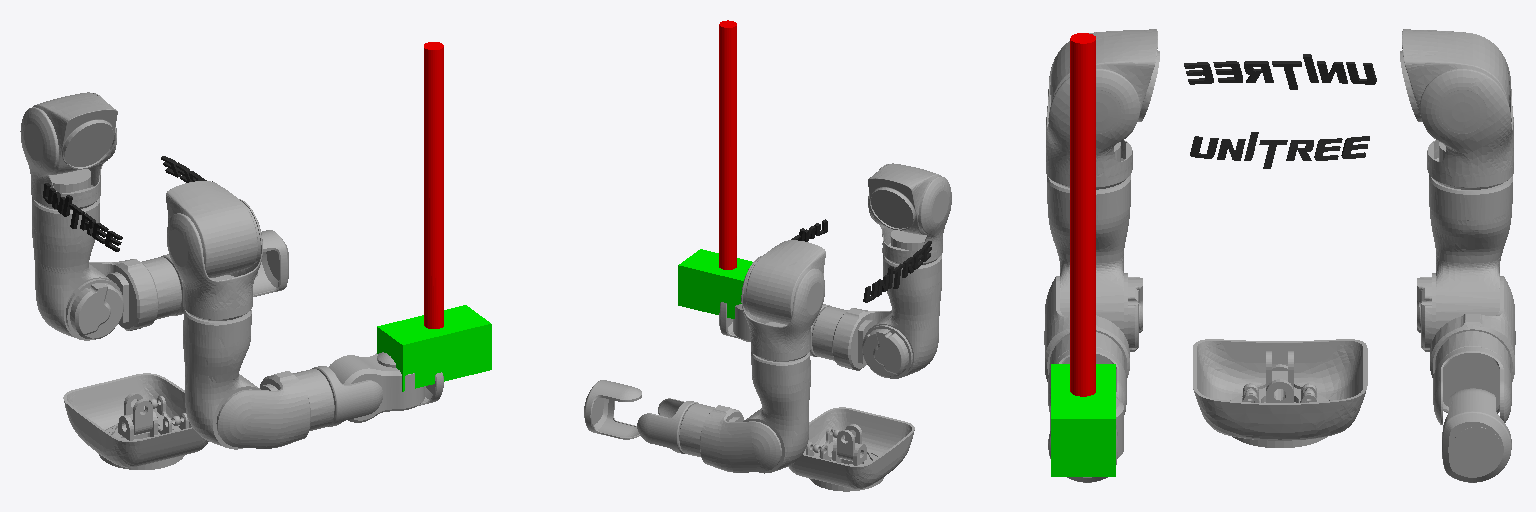
--- What the picture shows (computed from the rendered views, not written in the file) ---
3 views of the same robot in one strip: view 1: azimuth 30°, elevation 25°; view 2: azimuth 150°, elevation 25°; view 3: azimuth 270°, elevation 25° (orthographic).
Robot: g1_29dof — 28 links, 27 joints (8 revolute, 19 fixed); root link pelvis; default pose: joints at zero except 1 at the middle of their limits (pole_joint = 3.14).
Visible links, largest first — view 1: left_shoulder_yaw_link, waist_support_link, right_elbow_link, cart, right_shoulder_yaw_link, pole, right_shoulder_pitch_link, right_shoulder_roll_link, left_shoulder_pitch_link, left_elbow_link, left_shoulder_roll_link, right_wrist_pitch_link (+6 smaller); view 2: right_shoulder_yaw_link, waist_support_link, left_elbow_link, left_shoulder_yaw_link, pole, left_shoulder_pitch_link, left_shoulder_roll_link, cart, right_shoulder_pitch_link, right_shoulder_roll_link, right_elbow_link, left_wrist_yaw_link (+4 smaller); view 3: waist_support_link, left_shoulder_yaw_link, left_shoulder_roll_link, pole, right_shoulder_yaw_link, right_shoulder_roll_link, cart, logo_link, left_wrist_yaw_link, left_shoulder_pitch_link, right_shoulder_pitch_link, left_wrist_roll_link (+5 smaller).
Link boxes in pixels (x1,y1,x2,y2): left_shoulder_yaw_link: (32,197,123,340); waist_support_link: (63,373,208,467); right_elbow_link: (216,369,334,448); cart: (377,305,491,391); right_shoulder_yaw_link: (183,309,260,449); pole: (424,42,443,328); right_shoulder_pitch_link: (166,181,257,277); right_shoulder_roll_link: (167,199,262,320); left_shoulder_pitch_link: (33,92,117,174); left_elbow_link: (89,257,181,330); left_shoulder_roll_link: (20,93,116,209); right_wrist_pitch_link: (329,353,424,422); right_shoulder_yaw_link: (862,255,941,378); waist_support_link: (788,407,914,488); left_elbow_link: (679,403,781,472); left_shoulder_yaw_link: (743,352,810,473); pole: (719,20,736,269); left_shoulder_pitch_link: (746,240,825,324); left_shoulder_roll_link: (741,256,824,361); cart: (678,249,752,318); right_shoulder_pitch_link: (868,163,940,234); right_shoulder_roll_link: (868,164,951,264); right_elbow_link: (812,306,891,370); left_wrist_yaw_link: (584,380,641,439); waist_support_link: (1193,339,1367,440); left_shoulder_yaw_link: (1417,175,1512,351); left_shoulder_roll_link: (1420,32,1513,189); pole: (1070,33,1095,396); right_shoulder_yaw_link: (1047,175,1142,351); right_shoulder_roll_link: (1046,32,1139,189); cart: (1051,364,1115,476); logo_link: (1184,54,1376,168); left_wrist_yaw_link: (1442,388,1511,482); left_shoulder_pitch_link: (1400,29,1509,141); right_shoulder_pitch_link: (1050,29,1159,141); left_wrist_roll_link: (1433,347,1511,424).
Bounding box of the posed robot: 0.3639 × 0.3632 × 0.4449 m (x, y, z).
17 mesh visuals loaded from 23 distinct referenced files (17 OBJ); not drawn: 6 (reference not matched to a file when rendering).

The robot description file, URDF, robot "g1_29dof":
<robot name="g1_29dof">
  <mujoco>
    <compiler meshdir="meshes" discardvisual="false"/>
  </mujoco>

  <!-- [CAUTION] uncomment when convert to mujoco -->
  <!-- <link name="world"></link>
  <joint name="floating_base_joint" type="floating">
    <parent link="world"/>
    <child link="pelvis"/>
  </joint> -->

  <link name="pelvis">
    <inertial>
      <origin xyz="0 0 -0.07605" rpy="0 0 0"/>
      <mass value="3.813"/>
      <inertia ixx="0.010549" ixy="0" ixz="2.1E-06" iyy="0.0093089" iyz="0" izz="0.0079184"/>
    </inertial>
    <visual>
      <origin xyz="0 0 0" rpy="0 0 0"/>
      <geometry>
        <mesh filename="meshes/pelvis.obj"/>
      </geometry>
      <material name="dark">
        <color rgba="0.2 0.2 0.2 1"/>
      </material>
    </visual>
  </link>
  <link name="pelvis_contour_link">
    <inertial>
      <origin xyz="0 0 0" rpy="0 0 0"/>
      <mass value="0.001"/>
      <inertia ixx="1e-7" ixy="0" ixz="0" iyy="1e-7" iyz="0" izz="1e-7"/>
    </inertial>
    <visual>
      <origin xyz="0 0 0" rpy="0 0 0"/>
      <geometry>
        <mesh filename="meshes/pelvis_contour_link.obj"/>
      </geometry>
      <material name="white">
        <color rgba="0.7 0.7 0.7 1"/>
      </material>
    </visual>
    <!-- <collision>
      <origin xyz="0 0 0" rpy="0 0 0"/>
      <geometry>
        <mesh filename="meshes/pelvis_contour_link.obj"/>
      </geometry>
    </collision> -->
  </link>
  <joint name="pelvis_contour_joint" type="fixed">
    <parent link="pelvis"/>
    <child link="pelvis_contour_link"/>
  </joint>

  <!-- Legs -->
  <!-- <link name="left_hip_pitch_link">
    <inertial>
      <origin xyz="0.002741 0.047791 -0.02606" rpy="0 0 0"/>
      <mass value="1.35"/>
      <inertia ixx="0.001811" ixy="3.68E-05" ixz="-3.44E-05" iyy="0.0014193" iyz="0.000171" izz="0.0012812"/>
    </inertial>
    <visual>
      <origin xyz="0 0 0" rpy="0 0 0"/>
      <geometry>
        <mesh filename="meshes/left_hip_pitch_link.obj"/>
      </geometry>
      <material name="dark">
        <color rgba="0.2 0.2 0.2 1"/>
      </material>
    </visual>
    <collision>
      <origin xyz="0 0 0" rpy="0 0 0"/>
      <geometry>
        <mesh filename="meshes/left_hip_pitch_link.obj"/>
      </geometry>
    </collision>
  </link>
  <joint name="left_hip_pitch_joint" type="revolute">
    <origin xyz="0 0.064452 -0.1027" rpy="0 0 0"/>
    <parent link="pelvis"/>
    <child link="left_hip_pitch_link"/>
    <axis xyz="0 1 0"/>
    <limit lower="-2.5307" upper="2.8798" effort="88" velocity="32"/>
  </joint>
  <link name="left_hip_roll_link">
    <inertial>
      <origin xyz="0.029812 -0.001045 -0.087934" rpy="0 0 0"/>
      <mass value="1.52"/>
      <inertia ixx="0.0023773" ixy="-3.8E-06" ixz="-0.0003908" iyy="0.0024123" iyz="1.84E-05" izz="0.0016595"/>
    </inertial>
    <visual>
      <origin xyz="0 0 0" rpy="0 0 0"/>
      <geometry>
        <mesh filename="meshes/left_hip_roll_link.obj"/>
      </geometry>
      <material name="white">
        <color rgba="0.7 0.7 0.7 1"/>
      </material>
    </visual>
    <collision>
      <origin xyz="0 0 0" rpy="0 0 0"/>
      <geometry>
        <mesh filename="meshes/left_hip_roll_link.obj"/>
      </geometry>
    </collision>
  </link>
  <joint name="left_hip_roll_joint" type="revolute">
    <origin xyz="0 0.052 -0.030465" rpy="0 -0.1749 0"/>
    <parent link="left_hip_pitch_link"/>
    <child link="left_hip_roll_link"/>
    <axis xyz="1 0 0"/>
    <limit lower="-0.5236" upper="2.9671" effort="88" velocity="32"/>
  </joint>
  <link name="left_hip_yaw_link">
    <inertial>
      <origin xyz="-0.057709 -0.010981 -0.15078" rpy="0 0 0"/>
      <mass value="1.702"/>
      <inertia ixx="0.0057774" ixy="-0.0005411" ixz="-0.0023948" iyy="0.0076124" iyz="-0.0007072" izz="0.003149"/>
    </inertial>
    <visual>
      <origin xyz="0 0 0" rpy="0 0 0"/>
      <geometry>
        <mesh filename="meshes/left_hip_yaw_link.obj"/>
      </geometry>
      <material name="white">
        <color rgba="0.7 0.7 0.7 1"/>
      </material>
    </visual>
    <collision>
      <origin xyz="0 0 0" rpy="0 0 0"/>
      <geometry>
        <mesh filename="meshes/left_hip_yaw_link.obj"/>
      </geometry>
    </collision>
  </link>
  <joint name="left_hip_yaw_joint" type="revolute">
    <origin xyz="0.025001 0 -0.12412" rpy="0 0 0"/>
    <parent link="left_hip_roll_link"/>
    <child link="left_hip_yaw_link"/>
    <axis xyz="0 0 1"/>
    <limit lower="-2.7576" upper="2.7576" effort="88" velocity="32"/>
  </joint>
  <link name="left_knee_link">
    <inertial>
      <origin xyz="0.005457 0.003964 -0.12074" rpy="0 0 0"/>
      <mass value="1.932"/>
      <inertia ixx="0.011329" ixy="4.82E-05" ixz="-4.49E-05" iyy="0.011277" iyz="-0.0007146" izz="0.0015168"/>
    </inertial>
    <visual>
      <origin xyz="0 0 0" rpy="0 0 0"/>
      <geometry>
        <mesh filename="meshes/left_knee_link.obj"/>
      </geometry>
      <material name="white">
        <color rgba="0.7 0.7 0.7 1"/>
      </material>
    </visual>
    <collision>
      <origin xyz="0 0 0" rpy="0 0 0"/>
      <geometry>
        <mesh filename="meshes/left_knee_link.obj"/>
      </geometry>
    </collision>
  </link>
  <joint name="left_knee_joint" type="revolute">
    <origin xyz="-0.078273 0.0021489 -0.17734" rpy="0 0.1749 0"/>
    <parent link="left_hip_yaw_link"/>
    <child link="left_knee_link"/>
    <axis xyz="0 1 0"/>
    <limit lower="-0.087267" upper="2.8798" effort="139" velocity="20"/>
  </joint>
  <link name="left_ankle_pitch_link">
    <inertial>
      <origin xyz="-0.007269 0 0.011137" rpy="0 0 0"/>
      <mass value="0.074"/>
      <inertia ixx="8.4E-06" ixy="0" ixz="-2.9E-06" iyy="1.89E-05" iyz="0" izz="1.26E-05"/>
    </inertial>
    <visual>
      <origin xyz="0 0 0" rpy="0 0 0"/>
      <geometry>
        <mesh filename="meshes/left_ankle_pitch_link.obj"/>
      </geometry>
      <material name="white">
        <color rgba="0.7 0.7 0.7 1"/>
      </material>
    </visual>
    <collision>
      <origin xyz="0 0 0" rpy="0 0 0"/>
      <geometry>
        <mesh filename="meshes/left_ankle_pitch_link.obj"/>
      </geometry>
    </collision>
  </link>
  <joint name="left_ankle_pitch_joint" type="revolute">
    <origin xyz="0 -9.4445E-05 -0.30001" rpy="0 0 0"/>
    <parent link="left_knee_link"/>
    <child link="left_ankle_pitch_link"/>
    <axis xyz="0 1 0"/>
    <limit lower="-0.87267" upper="0.5236" effort="50" velocity="37"/>
  </joint>
  <link name="left_ankle_roll_link">
    <inertial>
      <origin xyz="0.026505 0 -0.016425" rpy="0 0 0"/>
      <mass value="0.608"/>
      <inertia ixx="0.0002231" ixy="2E-07" ixz="8.91E-05" iyy="0.0016161" iyz="-1E-07" izz="0.0016667"/>
    </inertial>
    <visual>
      <origin xyz="0 0 0" rpy="0 0 0"/>
      <geometry>
        <mesh filename="meshes/left_ankle_roll_link.obj"/>
      </geometry>
      <material name="dark">
        <color rgba="0.2 0.2 0.2 1"/>
      </material>
    </visual>
    <collision>
      <origin xyz="-0.05 0.025 -0.03" rpy="0 0 0"/>
      <geometry>
        <sphere radius="0.005"/>
      </geometry>
    </collision>
    <collision>
      <origin xyz="-0.05 -0.025 -0.03" rpy="0 0 0"/>
      <geometry>
        <sphere radius="0.005"/>
      </geometry>
    </collision>
    <collision>
      <origin xyz="0.12 0.03 -0.03" rpy="0 0 0"/>
      <geometry>
        <sphere radius="0.005"/>
      </geometry>
    </collision>
    <collision>
      <origin xyz="0.12 -0.03 -0.03" rpy="0 0 0"/>
      <geometry>
        <sphere radius="0.005"/>
      </geometry>
    </collision>
  </link>
  <joint name="left_ankle_roll_joint" type="revolute">
    <origin xyz="0 0 -0.017558" rpy="0 0 0"/>
    <parent link="left_ankle_pitch_link"/>
    <child link="left_ankle_roll_link"/>
    <axis xyz="1 0 0"/>
    <limit lower="-0.2618" upper="0.2618" effort="50" velocity="37"/>
  </joint>
  <link name="right_hip_pitch_link">
    <inertial>
      <origin xyz="0.002741 -0.047791 -0.02606" rpy="0 0 0"/>
      <mass value="1.35"/>
      <inertia ixx="0.001811" ixy="-3.68E-05" ixz="-3.44E-05" iyy="0.0014193" iyz="-0.000171" izz="0.0012812"/>
    </inertial>
    <visual>
      <origin xyz="0 0 0" rpy="0 0 0"/>
      <geometry>
        <mesh filename="meshes/right_hip_pitch_link.obj"/>
      </geometry>
      <material name="dark">
        <color rgba="0.2 0.2 0.2 1"/>
      </material>
    </visual>
    <collision>
      <origin xyz="0 0 0" rpy="0 0 0"/>
      <geometry>
        <mesh filename="meshes/right_hip_pitch_link.obj"/>
      </geometry>
    </collision>
  </link>
  <joint name="right_hip_pitch_joint" type="revolute">
    <origin xyz="0 -0.064452 -0.1027" rpy="0 0 0"/>
    <parent link="pelvis"/>
    <child link="right_hip_pitch_link"/>
    <axis xyz="0 1 0"/>
    <limit lower="-2.5307" upper="2.8798" effort="88" velocity="32"/>
  </joint>
  <link name="right_hip_roll_link">
    <inertial>
      <origin xyz="0.029812 0.001045 -0.087934" rpy="0 0 0"/>
      <mass value="1.52"/>
      <inertia ixx="0.0023773" ixy="3.8E-06" ixz="-0.0003908" iyy="0.0024123" iyz="-1.84E-05" izz="0.0016595"/>
    </inertial>
    <visual>
      <origin xyz="0 0 0" rpy="0 0 0"/>
      <geometry>
        <mesh filename="meshes/right_hip_roll_link.obj"/>
      </geometry>
      <material name="white">
        <color rgba="0.7 0.7 0.7 1"/>
      </material>
    </visual>
    <collision>
      <origin xyz="0 0 0" rpy="0 0 0"/>
      <geometry>
        <mesh filename="meshes/right_hip_roll_link.obj"/>
      </geometry>
    </collision>
  </link>
  <joint name="right_hip_roll_joint" type="revolute">
    <origin xyz="0 -0.052 -0.030465" rpy="0 -0.1749 0"/>
    <parent link="right_hip_pitch_link"/>
    <child link="right_hip_roll_link"/>
    <axis xyz="1 0 0"/>
    <limit lower="-2.9671" upper="0.5236" effort="88" velocity="32"/>
  </joint>
  <link name="right_hip_yaw_link">
    <inertial>
      <origin xyz="-0.057709 0.010981 -0.15078" rpy="0 0 0"/>
      <mass value="1.702"/>
      <inertia ixx="0.0057774" ixy="0.0005411" ixz="-0.0023948" iyy="0.0076124" iyz="0.0007072" izz="0.003149"/>
    </inertial>
    <visual>
      <origin xyz="0 0 0" rpy="0 0 0"/>
      <geometry>
        <mesh filename="meshes/right_hip_yaw_link.obj"/>
      </geometry>
      <material name="white">
        <color rgba="0.7 0.7 0.7 1"/>
      </material>
    </visual>
    <collision>
      <origin xyz="0 0 0" rpy="0 0 0"/>
      <geometry>
        <mesh filename="meshes/right_hip_yaw_link.obj"/>
      </geometry>
    </collision>
  </link>
  <joint name="right_hip_yaw_joint" type="revolute">
    <origin xyz="0.025001 0 -0.12412" rpy="0 0 0"/>
    <parent link="right_hip_roll_link"/>
    <child link="right_hip_yaw_link"/>
    <axis xyz="0 0 1"/>
    <limit lower="-2.7576" upper="2.7576" effort="88" velocity="32"/>
  </joint>
  <link name="right_knee_link">
    <inertial>
      <origin xyz="0.005457 -0.003964 -0.12074" rpy="0 0 0"/>
      <mass value="1.932"/>
      <inertia ixx="0.011329" ixy="-4.82E-05" ixz="4.49E-05" iyy="0.011277" iyz="0.0007146" izz="0.0015168"/>
    </inertial>
    <visual>
      <origin xyz="0 0 0" rpy="0 0 0"/>
      <geometry>
        <mesh filename="meshes/right_knee_link.obj"/>
      </geometry>
      <material name="white">
        <color rgba="0.7 0.7 0.7 1"/>
      </material>
    </visual>
    <collision>
      <origin xyz="0 0 0" rpy="0 0 0"/>
      <geometry>
        <mesh filename="meshes/right_knee_link.obj"/>
      </geometry>
    </collision>
  </link>
  <joint name="right_knee_joint" type="revolute">
    <origin xyz="-0.078273 -0.0021489 -0.17734" rpy="0 0.1749 0"/>
    <parent link="right_hip_yaw_link"/>
    <child link="right_knee_link"/>
    <axis xyz="0 1 0"/>
    <limit lower="-0.087267" upper="2.8798" effort="139" velocity="20"/>
  </joint>
  <link name="right_ankle_pitch_link">
    <inertial>
      <origin xyz="-0.007269 0 0.011137" rpy="0 0 0"/>
      <mass value="0.074"/>
      <inertia ixx="8.4E-06" ixy="0" ixz="-2.9E-06" iyy="1.89E-05" iyz="0" izz="1.26E-05"/>
    </inertial>
    <visual>
      <origin xyz="0 0 0" rpy="0 0 0"/>
      <geometry>
        <mesh filename="meshes/right_ankle_pitch_link.obj"/>
      </geometry>
      <material name="white">
        <color rgba="0.7 0.7 0.7 1"/>
      </material>
    </visual>
    <collision>
      <origin xyz="0 0 0" rpy="0 0 0"/>
      <geometry>
        <mesh filename="meshes/right_ankle_pitch_link.obj"/>
      </geometry>
    </collision>
  </link>
  <joint name="right_ankle_pitch_joint" type="revolute">
    <origin xyz="0 9.4445E-05 -0.30001" rpy="0 0 0"/>
    <parent link="right_knee_link"/>
    <child link="right_ankle_pitch_link"/>
    <axis xyz="0 1 0"/>
    <limit lower="-0.87267" upper="0.5236" effort="50" velocity="37"/>
  </joint>
  <link name="right_ankle_roll_link">
    <inertial>
      <origin xyz="0.026505 0 -0.016425" rpy="0 0 0"/>
      <mass value="0.608"/>
      <inertia ixx="0.0002231" ixy="-2E-07" ixz="8.91E-05" iyy="0.0016161" iyz="1E-07" izz="0.0016667"/>
    </inertial>
    <visual>
      <origin xyz="0 0 0" rpy="0 0 0"/>
      <geometry>
        <mesh filename="meshes/right_ankle_roll_link.obj"/>
      </geometry>
      <material name="dark">
        <color rgba="0.2 0.2 0.2 1"/>
      </material>
    </visual>
    <collision>
      <origin xyz="-0.05 0.025 -0.03" rpy="0 0 0"/>
      <geometry>
        <sphere radius="0.005"/>
      </geometry>
    </collision>
    <collision>
      <origin xyz="-0.05 -0.025 -0.03" rpy="0 0 0"/>
      <geometry>
        <sphere radius="0.005"/>
      </geometry>
    </collision>
    <collision>
      <origin xyz="0.12 0.03 -0.03" rpy="0 0 0"/>
      <geometry>
        <sphere radius="0.005"/>
      </geometry>
    </collision>
    <collision>
      <origin xyz="0.12 -0.03 -0.03" rpy="0 0 0"/>
      <geometry>
        <sphere radius="0.005"/>
      </geometry>
    </collision>
  </link>
  <joint name="right_ankle_roll_joint" type="revolute">
    <origin xyz="0 0 -0.017558" rpy="0 0 0"/>
    <parent link="right_ankle_pitch_link"/>
    <child link="right_ankle_roll_link"/>
    <axis xyz="1 0 0"/>
    <limit lower="-0.2618" upper="0.2618" effort="50" velocity="37"/>
  </joint> -->

  <!-- Torso (change 3 dof joint to fixed)--> 
  <link name="waist_yaw_link">
    <inertial>
      <origin xyz="0.003964 0 0.018769" rpy="0 0 0"/>
      <mass value="0.244"/>
      <inertia ixx="9.9587E-05" ixy="-1.833E-06" ixz="-1.2617E-05" iyy="0.00012411" iyz="-1.18E-07" izz="0.00015586"/>
    </inertial>
    <visual>
      <origin xyz="0 0 0" rpy="0 0 0"/>
      <geometry>
        <mesh filename="meshes/waist_yaw_link.obj"/>
      </geometry>
      <material name="white">
        <color rgba="0.7 0.7 0.7 1"/>
      </material>
    </visual>
  </link>
  <joint name="waist_yaw_joint" type="fixed">
    <origin xyz="0 0 0" rpy="0 0 0"/>
    <parent link="pelvis"/>
    <child link="waist_yaw_link"/>
    <axis xyz="0 0 1"/>
    <limit lower="-2.618" upper="2.618" effort="88" velocity="32"/>
  </joint>
  <link name="waist_roll_link">
    <inertial>
      <origin xyz="0 -0.000236 0.010111" rpy="0 0 0"/>
      <mass value="0.047"/>
      <inertia ixx="7.515E-06" ixy="0" ixz="0" iyy="6.398E-06" iyz="9.9E-08" izz="3.988E-06"/>
    </inertial>
    <visual>
      <origin xyz="0 0 0" rpy="0 0 0"/>
      <geometry>
        <mesh filename="meshes/waist_roll_link.obj"/>
      </geometry>
      <material name="white">
        <color rgba="0.7 0.7 0.7 1"/>
      </material>
    </visual>
  </link>
  <joint name="waist_roll_joint" type="fixed">
    <origin xyz="-0.0039635 0 0.035" rpy="0 0 0"/>
    <parent link="waist_yaw_link"/>
    <child link="waist_roll_link"/>
    <axis xyz="1 0 0"/>
    <limit lower="-0.52" upper="0.52" effort="50" velocity="37"/>
  </joint>
  <link name="torso_link">
    <inertial>
      <origin xyz="0.002601 0.000257 0.153719" rpy="0 0 0"/>
      <mass value="8.562"/>
      <inertia ixx="0.065674966" ixy="-8.597E-05" ixz="-0.001737252" iyy="0.053535188" iyz="8.6899E-05" izz="0.030808125"/>
    </inertial>
    <visual>
      <origin xyz="0 0 0" rpy="0 0 0"/>
      <geometry>
        <mesh filename="meshes/torso_link.obj"/>
      </geometry>
      <material name="white">
        <color rgba="0.7 0.7 0.7 1"/>
      </material>
    </visual>
    <!-- <collision>
      <origin xyz="0 0 0" rpy="0 0 0"/>
      <geometry>
        <mesh filename="meshes/torso_link.obj"/>
      </geometry>
    </collision> -->
  </link>
  <joint name="waist_pitch_joint" type="fixed">
    <origin xyz="0 0 0.019" rpy="0 0 0"/>
    <parent link="waist_roll_link"/>
    <child link="torso_link"/>
    <axis xyz="0 1 0"/>
    <limit lower="-0.52" upper="0.52" effort="50" velocity="37"/>
  </joint>

  <!-- LOGO -->
  <joint name="logo_joint" type="fixed">
    <origin xyz="0.0039635 0 -0.054" rpy="0 0 0"/>
    <parent link="torso_link"/>
    <child link="logo_link"/>
  </joint>
  <link name="logo_link">
    <inertial>
      <origin xyz="0 0 0" rpy="0 0 0"/>
      <mass value="0.001"/>
      <inertia ixx="1e-7" ixy="0" ixz="0" iyy="1e-7" iyz="0" izz="1e-7"/>
    </inertial>
    <visual>
      <origin xyz="0 0 0" rpy="0 0 0"/>
      <geometry>
        <mesh filename="meshes/logo_link.obj"/>
      </geometry>
      <material name="dark">
        <color rgba="0.2 0.2 0.2 1"/>
      </material>
    </visual>
    <!-- <collision>
      <origin xyz="0 0 0" rpy="0 0 0"/>
      <geometry>
        <mesh filename="meshes/logo_link.obj"/>
      </geometry>
    </collision> -->
  </link>

  <!-- Head -->
  <link name="head_link">
    <inertial>
      <origin xyz="0.005267 0.000299 0.449869" rpy="0 0 0"/>
      <mass value="1.036"/>
      <inertia ixx="0.004085051" ixy="-2.543E-06" ixz="-6.9455E-05" iyy="0.004185212" iyz="-3.726E-06" izz="0.001807911"/>
    </inertial>
    <visual>
      <origin xyz="0 0 0" rpy="0 0 0"/>
      <geometry>
        <mesh filename="meshes/head_link.obj"/>
      </geometry>
      <material name="dark">
        <color rgba="0.2 0.2 0.2 1"/>
      </material>
    </visual>
    <!-- <collision>
      <origin xyz="0 0 0" rpy="0 0 0"/>
      <geometry>
        <mesh filename="meshes/head_link.obj"/>
      </geometry>
    </collision> -->
  </link>
  <joint name="head_joint" type="fixed">
    <origin xyz="0.0039635 0 -0.054" rpy="0 0 0"/>
    <parent link="torso_link"/>
    <child link="head_link"/>
  </joint>

  <!-- Waist Support -->
  <link name="waist_support_link">
    <inertial>
      <origin xyz="0 0 0" rpy="0 0 0"/>
      <mass value="0.001"/>
      <inertia ixx="1e-7" ixy="0" ixz="0" iyy="1e-7" iyz="0" izz="1e-7"/>
    </inertial>
    <visual>
      <origin xyz="0 0 0" rpy="0 0 0"/>
      <geometry>
        <mesh filename="meshes/waist_support_link.obj"/>
      </geometry>
      <material name="white">
        <color rgba="0.7 0.7 0.7 1"/>
      </material>
    </visual>
    <!-- <collision>
      <origin xyz="0 0 0" rpy="0 0 0"/>
      <geometry>
        <mesh filename="meshes/waist_support_link.obj"/>
      </geometry>
    </collision> -->
  </link>
  <joint name="waist_support_joint" type="fixed">
    <origin xyz="0.0039635 0 -0.054" rpy="0 0 0"/>
    <parent link="torso_link"/>
    <child link="waist_support_link"/>
  </joint>

  <!-- IMU -->
  <link name="imu_link"></link>
  <joint name="imu_joint" type="fixed">
    <origin xyz="-0.03959 -0.00224 0.13792" rpy="0 0 0"/>
    <parent link="torso_link"/>
    <child link="imu_link"/>
  </joint>

  <!-- d435 -->
  <link name="d435_link"></link>
  <joint name="d435_joint" type="fixed">
    <origin xyz="0.0576235 0.01753 0.41987" rpy="0 0.8307767239493009 0"/>
    <parent link="torso_link"/>
    <child link="d435_link"/>
  </joint>

  <!-- mid360 -->
  <link name="mid360_link"></link>
  <joint name="mid360_joint" type="fixed">
    <origin xyz="0.0002835 0.00003 0.40618" rpy="0 0.04014257279586953 0"/>
    <parent link="torso_link"/>
    <child link="mid360_link"/>
  </joint>
  <link name="left_shoulder_pitch_link">
    <inertial>
      <origin xyz="0 0.035892 -0.011628" rpy="0 0 0"/>
      <mass value="0.718"/>
      <inertia ixx="0.0004291" ixy="-9.2E-06" ixz="6.4E-06" iyy="0.000453" iyz="2.26E-05" izz="0.000423"/>
    </inertial>
    <visual>
      <origin xyz="0 0 0" rpy="0 0 0"/>
      <geometry>
        <mesh filename="meshes/left_shoulder_pitch_link.obj"/>
      </geometry>
      <material name="white">
        <color rgba="0.7 0.7 0.7 1"/>
      </material>
    </visual>
    <collision>
      <origin xyz="0 0.04 -0.01" rpy="0 1.5707963267948966 0"/>
      <geometry>
        <cylinder radius="0.03" length="0.05"/>
      </geometry>
    </collision>
  </link>
  <joint name="left_shoulder_pitch_joint" type="fixed">
    <origin xyz="0.0039563 0.10022 0.23778" rpy="0.27931 5.4949E-05 -0.00019159"/>
    <parent link="torso_link"/>
    <child link="left_shoulder_pitch_link"/>
    <axis xyz="0 1 0"/>
    <limit lower="-3.0892" upper="2.6704" effort="25" velocity="37"/>
  </joint>
  <link name="left_shoulder_roll_link">
    <inertial>
      <origin xyz="-0.000227 0.00727 -0.063243" rpy="0 0 0"/>
      <mass value="0.643"/>
      <inertia ixx="0.0006177" ixy="-1E-06" ixz="8.7E-06" iyy="0.0006912" iyz="-5.3E-06" izz="0.0003894"/>
    </inertial>
    <visual>
      <origin xyz="0 0 0" rpy="0 0 0"/>
      <geometry>
        <mesh filename="meshes/left_shoulder_roll_link.obj"/>
      </geometry>
      <material name="white">
        <color rgba="0.7 0.7 0.7 1"/>
      </material>
    </visual>
    <collision>
      <origin xyz="-0.004 0.006 -0.053" rpy="0 0 0"/>
      <geometry>
        <cylinder radius="0.03" length="0.03"/>
      </geometry>
    </collision>
  </link>
  <joint name="left_shoulder_roll_joint" type="fixed">
    <origin xyz="0 0.038 -0.013831" rpy="-0.27925 0 0"/>
    <parent link="left_shoulder_pitch_link"/>
    <child link="left_shoulder_roll_link"/>
    <axis xyz="1 0 0"/>
    <limit lower="-1.5882" upper="2.2515" effort="25" velocity="37"/>
  </joint>
  <link name="left_shoulder_yaw_link">
    <inertial>
      <origin xyz="0.010773 -0.002949 -0.072009" rpy="0 0 0"/>
      <mass value="0.734"/>
      <inertia ixx="0.0009988" ixy="7.9E-06" ixz="0.0001412" iyy="0.0010605" iyz="-2.86E-05" izz="0.0004354"/>
    </inertial>
    <visual>
      <origin xyz="0 0 0" rpy="0 0 0"/>
      <geometry>
        <mesh filename="meshes/left_shoulder_yaw_link.obj"/>
      </geometry>
      <material name="white">
        <color rgba="0.7 0.7 0.7 1"/>
      </material>
    </visual>
    <collision>
      <origin xyz="0 0 0" rpy="0 0 0"/>
      <geometry>
        <mesh filename="meshes/left_shoulder_yaw_link.obj"/>
      </geometry>
    </collision>
  </link>
  <joint name="left_shoulder_yaw_joint" type="fixed">
    <origin xyz="0 0.00624 -0.1032" rpy="0 0 0"/>
    <parent link="left_shoulder_roll_link"/>
    <child link="left_shoulder_yaw_link"/>
    <axis xyz="0 0 1"/>
    <limit lower="-2.618" upper="2.618" effort="25" velocity="37"/>
  </joint>
  <link name="left_elbow_link">
    <inertial>
      <origin xyz="0.064956 0.004454 -0.010062" rpy="0 0 0"/>
      <mass value="0.6"/>
      <inertia ixx="0.0002891" ixy="6.53E-05" ixz="1.72E-05" iyy="0.0004152" iyz="-5.6E-06" izz="0.0004197"/>
    </inertial>
    <visual>
      <origin xyz="0 0 0" rpy="0 0 0"/>
      <geometry>
        <mesh filename="meshes/left_elbow_link.obj"/>
      </geometry>
      <material name="white">
        <color rgba="0.7 0.7 0.7 1"/>
      </material>
    </visual>
    <collision>
      <origin xyz="0 0 0" rpy="0 0 0"/>
      <geometry>
        <mesh filename="meshes/left_elbow_link.obj"/>
      </geometry>
    </collision>
  </link>
  <joint name="left_elbow_joint" type="fixed">
    <origin xyz="0.015783 0 -0.080518" rpy="0 0 0"/>
    <parent link="left_shoulder_yaw_link"/>
    <child link="left_elbow_link"/>
    <axis xyz="0 1 0"/>
    <limit lower="-1.0472" upper="2.0944" effort="25" velocity="37"/>
  </joint>
  <joint name="left_wrist_roll_joint" type="fixed">
    <origin xyz="0.100 0.00188791 -0.010" rpy="0 0 0"/>
    <axis xyz="1 0 0"/>
    <parent link="left_elbow_link"/>
    <child link="left_wrist_roll_link"/>
    <limit effort="25" velocity="37" lower="-1.972222054" upper="1.972222054"/>
  </joint>
  <link name="left_wrist_roll_link">
    <inertial>
      <origin xyz="0.01713944778 0.00053759094 0.00000048864" rpy="0 0 0"/>
      <mass value="0.08544498"/>
      <inertia ixx="0.00004821544023" ixy="-0.00000424511021" ixz="0.00000000510599" iyy="0.00003722899093" iyz="-0.00000000123525" izz="0.00005482106541"/>
    </inertial>
    <visual>
      <origin xyz="0 0 0" rpy="0 0 0"/>
      <geometry>
        <mesh filename="meshes/left_wrist_roll_link.obj"/>
      </geometry>
      <material name="white">
        <color rgba="0.7 0.7 0.7 1"/>
      </material>
    </visual>
    <collision>
      <origin xyz="0 0 0" rpy="0 0 0"/>
      <geometry>
        <mesh filename="meshes/left_wrist_roll_link.obj"/>
      </geometry>
    </collision>
  </link>
  <joint name="left_wrist_pitch_joint" type="fixed">
    <origin xyz="0.038 0 0" rpy="0 0 0"/>
    <axis xyz="0 1 0"/>
    <parent link="left_wrist_roll_link"/>
    <child link="left_wrist_pitch_link"/>
    <limit effort="5" velocity="22" lower="-1.614429558" upper="1.614429558"/>
  </joint>
  <link name="left_wrist_pitch_link">
    <inertial>
      <origin xyz="0.02299989837 -0.00111685314 -0.00111658096" rpy="0 0 0"/>
      <mass value="0.48404956"/>
      <inertia ixx="0.00016579646273" ixy="-0.00001231206746" ixz="0.00001231699194" iyy="0.00042954057410" iyz="0.00000081417712" izz="0.00042953697654"/>
    </inertial>
    <visual>
      <origin xyz="0 0 0" rpy="0 0 0"/>
      <geometry>
        <mesh filename="meshes/left_wrist_pitch_link.obj"/>
      </geometry>
      <material name="white">
        <color rgba="0.7 0.7 0.7 1"/>
      </material>
    </visual>
    <collision>
      <origin xyz="0 0 0" rpy="0 0 0"/>
      <geometry>
        <mesh filename="meshes/left_wrist_pitch_link.obj"/>
      </geometry>
    </collision>
  </link>
  <joint name="left_wrist_yaw_joint" type="fixed">
    <origin xyz="0.046 0 0" rpy="0 0 0"/>
    <axis xyz="0 0 1"/>
    <parent link="left_wrist_pitch_link"/>
    <child link="left_wrist_yaw_link"/>
    <limit effort="5" velocity="22" lower="-1.614429558" upper="1.614429558"/>
  </joint>
  <link name="left_wrist_yaw_link">
    <inertial>
      <origin xyz="0.02200381568 0.00049485096 0.00053861123" rpy="0 0 0"/>
      <mass value="0.08457647"/>
      <inertia ixx="0.00004929128828" ixy="-0.00000045735494" ixz="0.00000445867591" iyy="0.00005973338134" iyz="0.00000043217198" izz="0.00003928083826"/>
    </inertial>
    <visual>
      <origin xyz="0 0 0" rpy="0 0 0"/>
      <geometry>
        <mesh filename="meshes/left_wrist_yaw_link.obj"/>
      </geometry>
      <material name="white">
        <color rgba="0.7 0.7 0.7 1"/>
      </material>
    </visual>
    <collision>
      <origin xyz="0 0 0" rpy="0 0 0"/>
      <geometry>
        <mesh filename="meshes/left_wrist_yaw_link.obj"/>
      </geometry>
    </collision>
  </link>
  <joint name="left_hand_palm_joint" type="fixed">
    <origin xyz="0.0415 0.003 0" rpy="0 0 0"/>
    <parent link="left_wrist_yaw_link"/>
    <child link="left_rubber_hand"/>
  </joint>
  <link name="left_rubber_hand">
    <inertial>
      <origin xyz="0.05361310808 -0.00295905240 0.00215413091" rpy="0 0 0"/>
      <mass value="0.170"/>
      <inertia ixx="0.00010099485234748" ixy="0.00003618590790516" ixz="-0.00000074301518642" iyy="0.00028135871571621" iyz="0.00000330189743286" izz="0.00021894770413514"/>
    </inertial>
    <visual>
      <origin xyz="0 0 0" rpy="0 0 0"/>
      <geometry>
        <mesh filename="meshes/left_rubber_hand.obj"/>
      </geometry>
      <material name="white">
        <color rgba="0.7 0.7 0.7 1"/>
      </material>
    </visual>
  </link>







  <link name="right_shoulder_pitch_link">
    <inertial>
      <origin xyz="0 -0.035892 -0.011628" rpy="0 0 0"/>
      <mass value="0.718"/>
      <inertia ixx="0.0004291" ixy="9.2E-06" ixz="6.4E-06" iyy="0.000453" iyz="-2.26E-05" izz="0.000423"/>
    </inertial>
    <visual>
      <origin xyz="0 0 0" rpy="0 0 0"/>
      <geometry>
        <mesh filename="meshes/right_shoulder_pitch_link.obj"/>
      </geometry>
      <material name="white">
        <color rgba="0.7 0.7 0.7 1"/>
      </material>
    </visual>
    <!-- <collision>
      <origin xyz="0 -0.04 -0.01" rpy="0 1.5707963267948966 0"/>
      <geometry>
        <cylinder radius="0.03" length="0.05"/>
      </geometry>
    </collision>-->
  </link>
  <joint name="right_shoulder_pitch_joint" type="revolute">
    <origin xyz="0.0039563 -0.10021 0.23778" rpy="-0.27931 5.4949E-05 0.00019159"/>
    <parent link="torso_link"/>
    <child link="right_shoulder_pitch_link"/>
    <axis xyz="0 1 0"/>
    <limit lower="-3.0892" upper="2.6704" effort="25" velocity="37"/>
  </joint>
  <link name="right_shoulder_roll_link">
    <inertial>
      <origin xyz="-0.000227 -0.00727 -0.063243" rpy="0 0 0"/>
      <mass value="0.643"/>
      <inertia ixx="0.0006177" ixy="1E-06" ixz="8.7E-06" iyy="0.0006912" iyz="5.3E-06" izz="0.0003894"/>
    </inertial>
    <visual>
      <origin xyz="0 0 0" rpy="0 0 0"/>
      <geometry>
        <mesh filename="meshes/right_shoulder_roll_link.obj"/>
      </geometry>
      <material name="white">
        <color rgba="0.7 0.7 0.7 1"/>
      </material>
    </visual>
    <!-- <collision>
      <origin xyz="-0.004 -0.006 -0.053" rpy="0 0 0"/>
      <geometry>
        <cylinder radius="0.03" length="0.03"/>
      </geometry>
    </collision>-->
  </link>
  <joint name="right_shoulder_roll_joint" type="revolute">
    <origin xyz="0 -0.038 -0.013831" rpy="0.27925 0 0"/>
    <parent link="right_shoulder_pitch_link"/>
    <child link="right_shoulder_roll_link"/>
    <axis xyz="1 0 0"/>
    <limit lower="-2.2515" upper="1.5882" effort="25" velocity="37"/>
  </joint>
  <link name="right_shoulder_yaw_link">
    <inertial>
      <origin xyz="0.010773 0.002949 -0.072009" rpy="0 0 0"/>
      <mass value="0.734"/>
      <inertia ixx="0.0009988" ixy="-7.9E-06" ixz="0.0001412" iyy="0.0010605" iyz="2.86E-05" izz="0.0004354"/>
    </inertial>
    <visual>
      <origin xyz="0 0 0" rpy="0 0 0"/>
      <geometry>
        <mesh filename="meshes/right_shoulder_yaw_link.obj"/>
      </geometry>
      <material name="white">
        <color rgba="0.7 0.7 0.7 1"/>
      </material>
    </visual>
    <!-- <collision>
      <origin xyz="0 0 0" rpy="0 0 0"/>
      <geometry>
        <mesh filename="meshes/right_shoulder_yaw_link.obj"/>
      </geometry>
    </collision>-->
  </link>
  <joint name="right_shoulder_yaw_joint" type="revolute">
    <origin xyz="0 -0.00624 -0.1032" rpy="0 0 0"/>
    <parent link="right_shoulder_roll_link"/>
    <child link="right_shoulder_yaw_link"/>
    <axis xyz="0 0 1"/>
    <limit lower="-2.618" upper="2.618" effort="25" velocity="37"/>
  </joint>
  <link name="right_elbow_link">
    <inertial>
      <origin xyz="0.064956 -0.004454 -0.010062" rpy="0 0 0"/>
      <mass value="0.6"/>
      <inertia ixx="0.0002891" ixy="-6.53E-05" ixz="1.72E-05" iyy="0.0004152" iyz="5.6E-06" izz="0.0004197"/>
    </inertial>
    <visual>
      <origin xyz="0 0 0" rpy="0 0 0"/>
      <geometry>
        <mesh filename="meshes/right_elbow_link.obj"/>
      </geometry>
      <material name="white">
        <color rgba="0.7 0.7 0.7 1"/>
      </material>
    </visual>
    <!-- <collision>
      <origin xyz="0 0 0" rpy="0 0 0"/>
      <geometry>
        <mesh filename="meshes/right_elbow_link.obj"/>
      </geometry>
    </collision>-->
  </link>
  <joint name="right_elbow_joint" type="revolute">
    <origin xyz="0.015783 0 -0.080518" rpy="0 0 0"/>
    <parent link="right_shoulder_yaw_link"/>
    <child link="right_elbow_link"/>
    <axis xyz="0 1 0"/>
    <limit lower="-1.0472" upper="2.0944" effort="25" velocity="37"/>
  </joint>
  <joint name="right_wrist_roll_joint" type="revolute">
    <origin xyz="0.100 -0.00188791 -0.010" rpy="0 0 0"/>
    <axis xyz="1 0 0"/>
    <parent link="right_elbow_link"/>
    <child link="right_wrist_roll_link"/>
    <limit effort="25" velocity="37" lower="-1.972222054" upper="1.972222054"/>
  </joint>
  <link name="right_wrist_roll_link">
    <inertial>
      <origin xyz="0.01713944778 -0.00053759094 0.00000048864" rpy="0 0 0"/>
      <mass value="0.08544498"/>
      <inertia ixx="0.00004821544023" ixy="0.00000424511021" ixz="0.00000000510599" iyy="0.00003722899093" iyz="0.00000000123525" izz="0.00005482106541"/>
    </inertial>
    <visual>
      <origin xyz="0 0 0" rpy="0 0 0"/>
      <geometry>
        <mesh filename="meshes/right_wrist_roll_link.obj"/>
      </geometry>
      <material name="white">
        <color rgba="0.7 0.7 0.7 1"/>
      </material>
    </visual>
    <!-- <collision>
      <origin xyz="0 0 0" rpy="0 0 0"/>
      <geometry>
        <mesh filename="meshes/right_wrist_roll_link.obj"/>
      </geometry>
    </collision>-->
  </link>
  <joint name="right_wrist_pitch_joint" type="revolute">
    <origin xyz="0.038 0 0" rpy="0 0 0"/>
    <axis xyz="0 1 0"/>
    <parent link="right_wrist_roll_link"/>
    <child link="right_wrist_pitch_link"/>
    <limit effort="5" velocity="22" lower="-1.614429558" upper="1.614429558"/>
  </joint>
  <link name="right_wrist_pitch_link">
    <inertial>
      <origin xyz="0.02299989837 0.00111685314 -0.00111658096" rpy="0 0 0"/>
      <mass value="0.48404956"/>
      <inertia ixx="0.00016579646273" ixy="0.00001231206746" ixz="0.00001231699194" iyy="0.00042954057410" iyz="-0.00000081417712" izz="0.00042953697654"/>
    </inertial>
    <visual>
      <origin xyz="0 0 0" rpy="0 0 0"/>
      <geometry>
        <mesh filename="meshes/right_wrist_pitch_link.obj"/>
      </geometry>
      <material name="white">
        <color rgba="0.7 0.7 0.7 1"/>
      </material>
    </visual>
    <!-- <collision>
      <origin xyz="0 0 0" rpy="0 0 0"/>
      <geometry>
        <mesh filename="meshes/right_wrist_pitch_link.obj"/>
      </geometry>
    </collision>-->
  </link>
  <joint name="right_wrist_yaw_joint" type="revolute">
    <origin xyz="0.046 0 0" rpy="0 0 0"/>
    <axis xyz="0 0 1"/>
    <parent link="right_wrist_pitch_link"/>
    <child link="right_wrist_yaw_link"/>
    <limit effort="5" velocity="22" lower="-1.614429558" upper="1.614429558"/>
  </joint>
  <link name="right_wrist_yaw_link">
    <inertial>
      <origin xyz="0.02200381568 -0.00049485096 0.00053861123" rpy="0 0 0"/>
      <mass value="0.08457647"/>
      <inertia ixx="0.00004929128828" ixy="0.00000045735494" ixz="0.00000445867591" iyy="0.00005973338134" iyz="-0.00000043217198" izz="0.00003928083826"/>
    </inertial>
    <visual>
      <origin xyz="0 0 0" rpy="0 0 0"/>
      <geometry>
        <mesh filename="meshes/right_wrist_yaw_link.obj"/>
      </geometry>
      <material name="white">
        <color rgba="0.7 0.7 0.7 1"/>
      </material>
    </visual>
    <!-- <collision>
      <origin xyz="0 0 0" rpy="0 0 0"/>
      <geometry>
        <mesh filename="meshes/right_wrist_yaw_link.obj"/>
      </geometry>
    </collision>-->
  </link>

<joint name="right_hand_palm_joint" type="fixed">
  <origin xyz="0.0415 -0.003 0" rpy="0 0 0"/>
  <parent link="right_wrist_yaw_link"/>
  <child link="cart"/>
</joint>

<link name="cart">
  <inertial>
    <origin xyz="0 0 0.025" rpy="0 0 0"/>
    <mass value="0.5"/> <!-- Similar to wrist mass -->
    <inertia ixx="0.001" ixy="0" ixz="0" iyy="0.001" iyz="0" izz="0.001"/>
  </inertial>
  <visual>
    <origin xyz="0 0 0.025" rpy="0 0 0"/>
    <geometry>
      <box size="0.1 0.05 0.05"/> <!-- Scaled down size -->
    </geometry>
    <material name="green">
      <color rgba="0 1 0 1"/>
    </material>
  </visual>
</link>

<link name="pole">
  <inertial>
    <origin xyz="0 0 -0.15" rpy="0 0 0"/> <!-- 30cm pole -->
    <mass value="0.3"/> <!-- Lighter than cart -->
    <inertia ixx="0.0001" ixy="0" ixz="0" iyy="0.0001" iyz="0" izz="0.0001"/>
  </inertial>
  <visual>
    <origin xyz="0 0 -0.15" rpy="0 0 0"/>
    <geometry>
      <cylinder length="0.3" radius="0.01"/>
    </geometry>
    <material name="red">
      <color rgba="1 0 0 1"/>
    </material>
  </visual>
</link>

<joint name="pole_joint" type="revolute">
  <parent link="cart"/>
  <child link="pole"/>
  <origin xyz="0 0 0.05"/> <!-- Mounting offset -->
  <axis xyz="0 1 0"/> <!-- Rotation about y-axis -->
  <limit lower="1.57" upper="4.71" velocity="22"/>
</joint>

<!-- right arm -->
<transmission type="SimpleTransmission" name="right_shoulder_pitch_joint">
  <actuator name="right_shoulder_pitch_joint"/>
  <joint name="right_shoulder_pitch_joint"/>
</transmission>
<transmission type="SimpleTransmission" name="right_shoulder_roll_joint_trans">
  <actuator name="right_shoulder_roll_joint"/>
  <joint name="right_shoulder_roll_joint"/>
</transmission>
<transmission type="SimpleTransmission" name="right_shoulder_yaw_joint_trans">
  <actuator name="right_shoulder_yaw_joint"/>
  <joint name="right_shoulder_yaw_joint"/>
</transmission>
<transmission type="SimpleTransmission" name="right_elbow_joint_trans">
  <actuator name="right_elbow_joint"/>
  <joint name="right_elbow_joint"/>
</transmission>
<transmission type="SimpleTransmission" name="right_wrist_roll_joint_trans">
  <actuator name="right_wrist_roll_joint"/>
  <joint name="right_wrist_roll_joint"/>
</transmission>
<transmission type="SimpleTransmission" name="right_wrist_pitch_joint_trans">
  <actuator name="right_wrist_pitch_joint"/>
  <joint name="right_wrist_pitch_joint"/>
</transmission>
<transmission type="SimpleTransmission" name="right_wrist_yaw_joint_trans">
  <actuator name="right_wrist_yaw_joint"/>
  <joint name="right_wrist_yaw_joint"/>
</transmission>

</robot>
